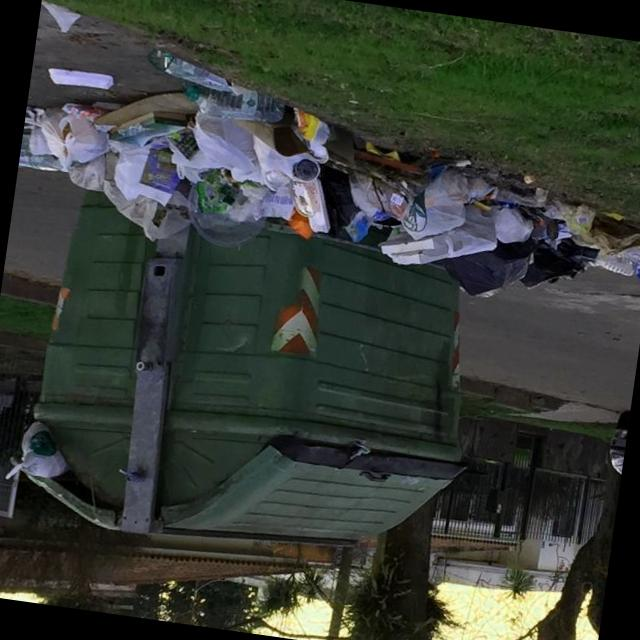high trash: (19, 51, 640, 296)
less trash: (48, 68, 115, 90), (41, 1, 81, 33)
